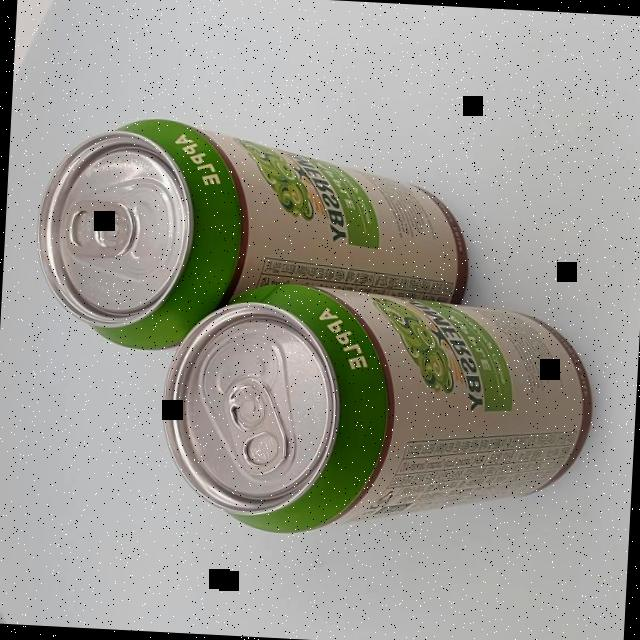can: (154, 278, 596, 550), (29, 112, 475, 366)
